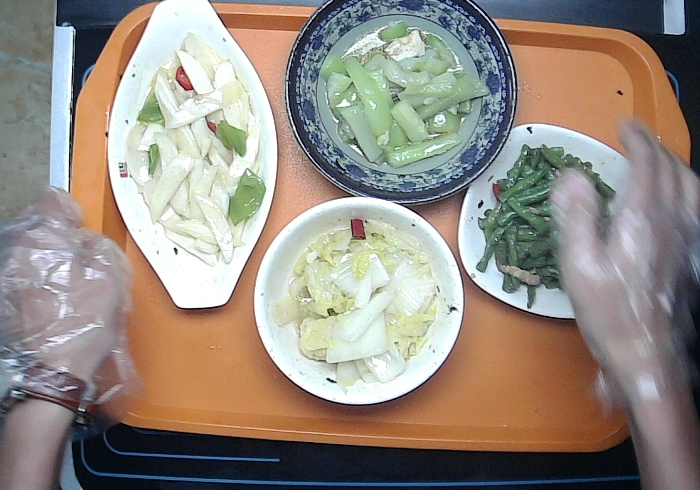ZNLD-Qing_Hua_Wan: (280, 1, 524, 217)
ZNLD-Si_Fang_Wan: (453, 116, 632, 323)
ZNLD-Tang_Wan: (248, 188, 466, 410)
ZNLD-Yu_Pan: (103, 1, 280, 321)
